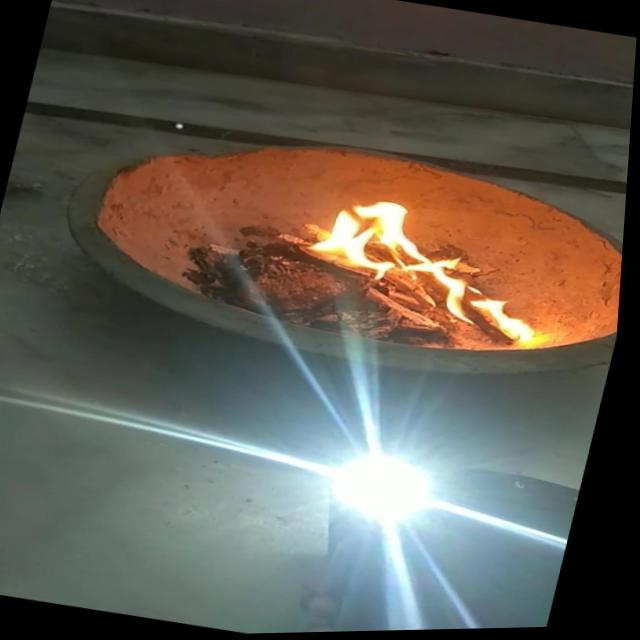fire: (295, 186, 503, 330), (466, 293, 561, 356)
